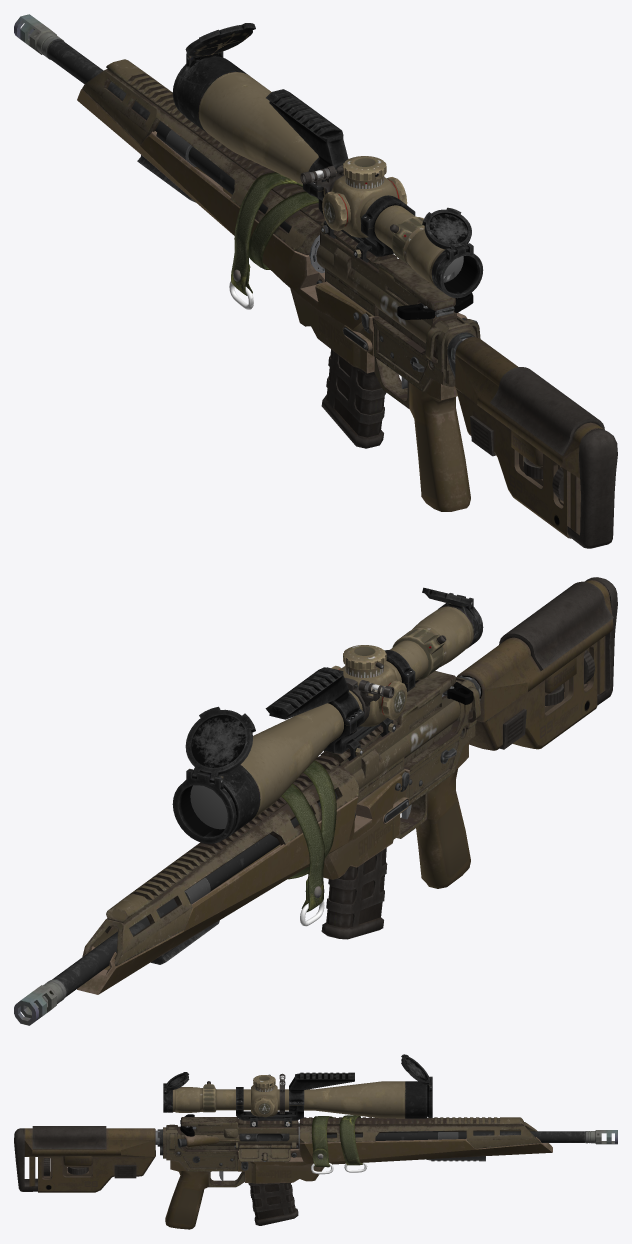
Rendered from arma.glb.
3 renders of one model, top to bottom at view 1: azimuth 30°, elevation 25°; view 2: azimuth 150°, elevation 25°; view 3: azimuth 270°, elevation 25°, orthographic. The views are drawn at different scales.
Parts seen in each view (by area): view 1: cuerpo, carg; view 2: cuerpo, carg; view 3: cuerpo, carg.
Part boxes in pixels (box(x1,y1,x2,y2)): cuerpo: box(14, 14, 617, 548); carg: box(321, 346, 386, 448); cuerpo: box(14, 577, 617, 1025); carg: box(321, 819, 397, 939); cuerpo: box(14, 1054, 617, 1229); carg: box(240, 1164, 298, 1225).
Bounding box in the file's own units: 0.1072 × 0.3714 × 1.2.
Materials: 4 (2 with a texture image).
